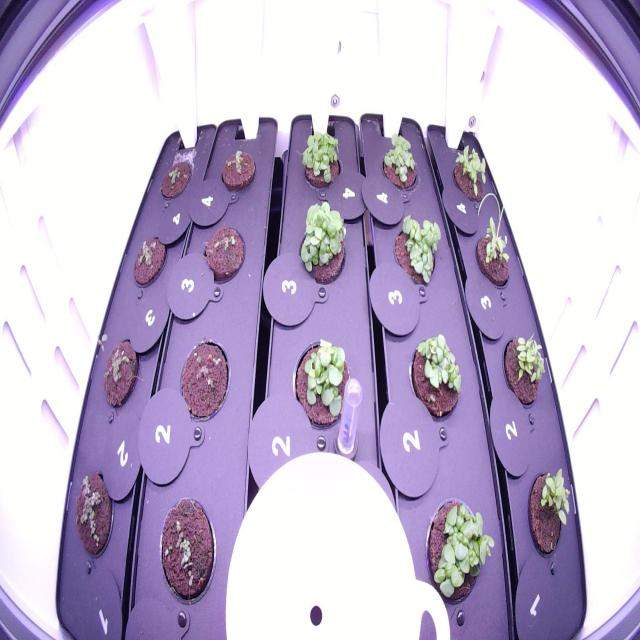germination: (154, 490, 220, 611), (466, 188, 517, 300), (175, 333, 233, 428), (522, 460, 574, 564), (70, 464, 120, 570), (497, 318, 548, 421), (98, 333, 142, 413), (198, 221, 249, 288), (447, 140, 491, 210), (215, 141, 262, 202), (129, 228, 170, 294), (157, 156, 195, 207)
